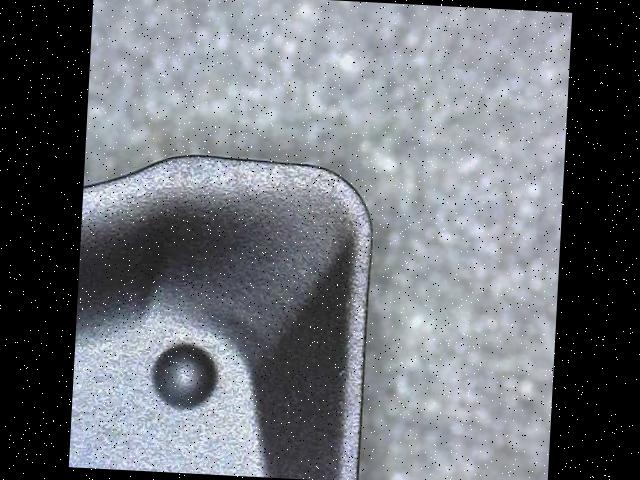normal: (82, 153, 374, 480)
